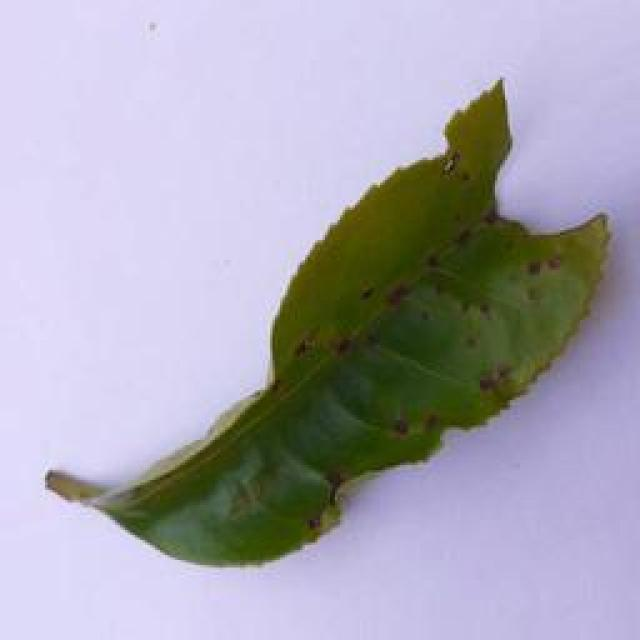Helopeltis: (49, 85, 611, 573)
